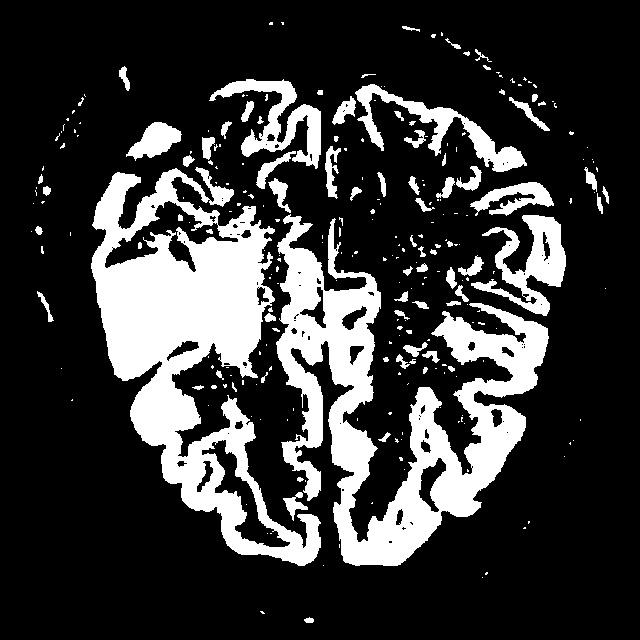Brain-Tumor: (93, 234, 278, 380)
